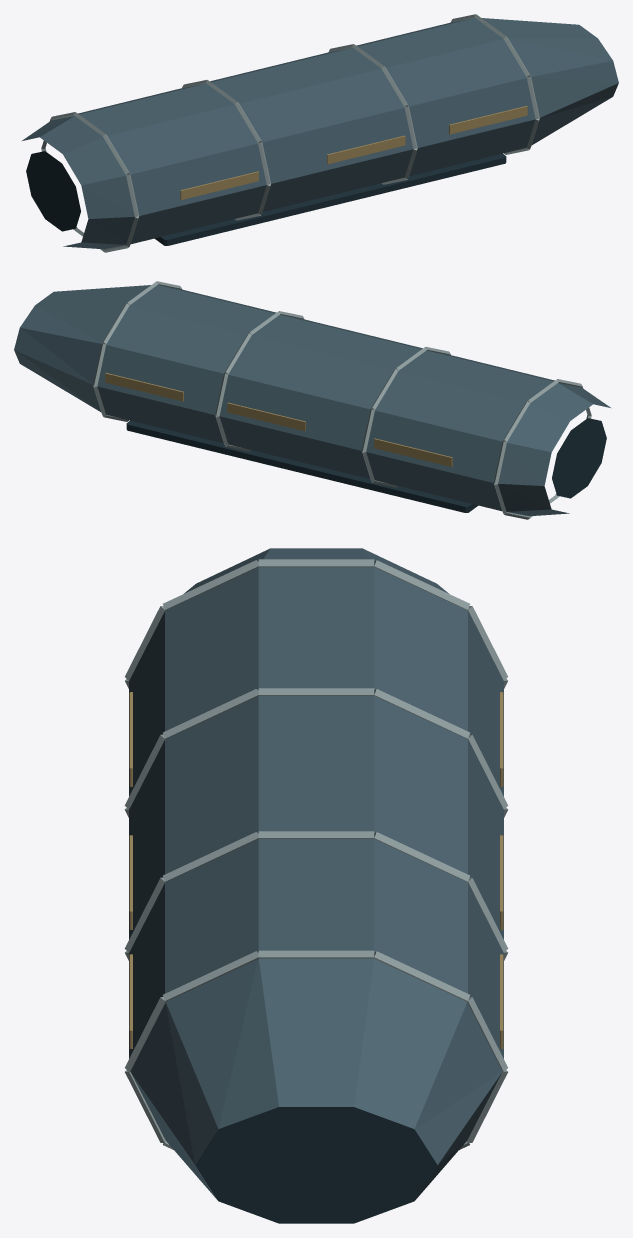
The model's file is wreck_hull.glb.
3 views of the same model, one above another, from view 1: azimuth 30°, elevation 25°; view 2: azimuth 150°, elevation 25°; view 3: azimuth 270°, elevation 25° (orthographic). The views are drawn at different scales.
Parts seen in each view (by area): view 1: wreck_hull; view 2: wreck_hull; view 3: wreck_hull.
Boxes of the visible parts, x1,y1,x2,y2 form: wreck_hull: (21,14,618,252); wreck_hull: (14,281,611,519); wreck_hull: (124,548,508,1223).
Bounding box in the file's own units: 11 × 2.47 × 3.4.
